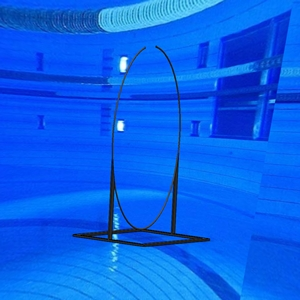circle: (72, 44, 212, 248)
